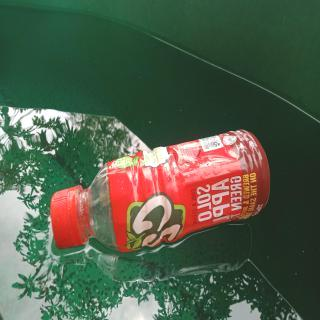bottle: (50, 129, 272, 252)
